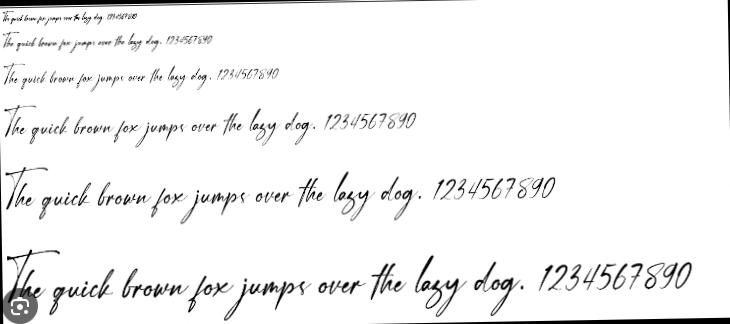text: (1, 231, 692, 324), (0, 160, 559, 230), (0, 95, 420, 152), (0, 56, 278, 92), (0, 24, 214, 56), (0, 5, 139, 29)
